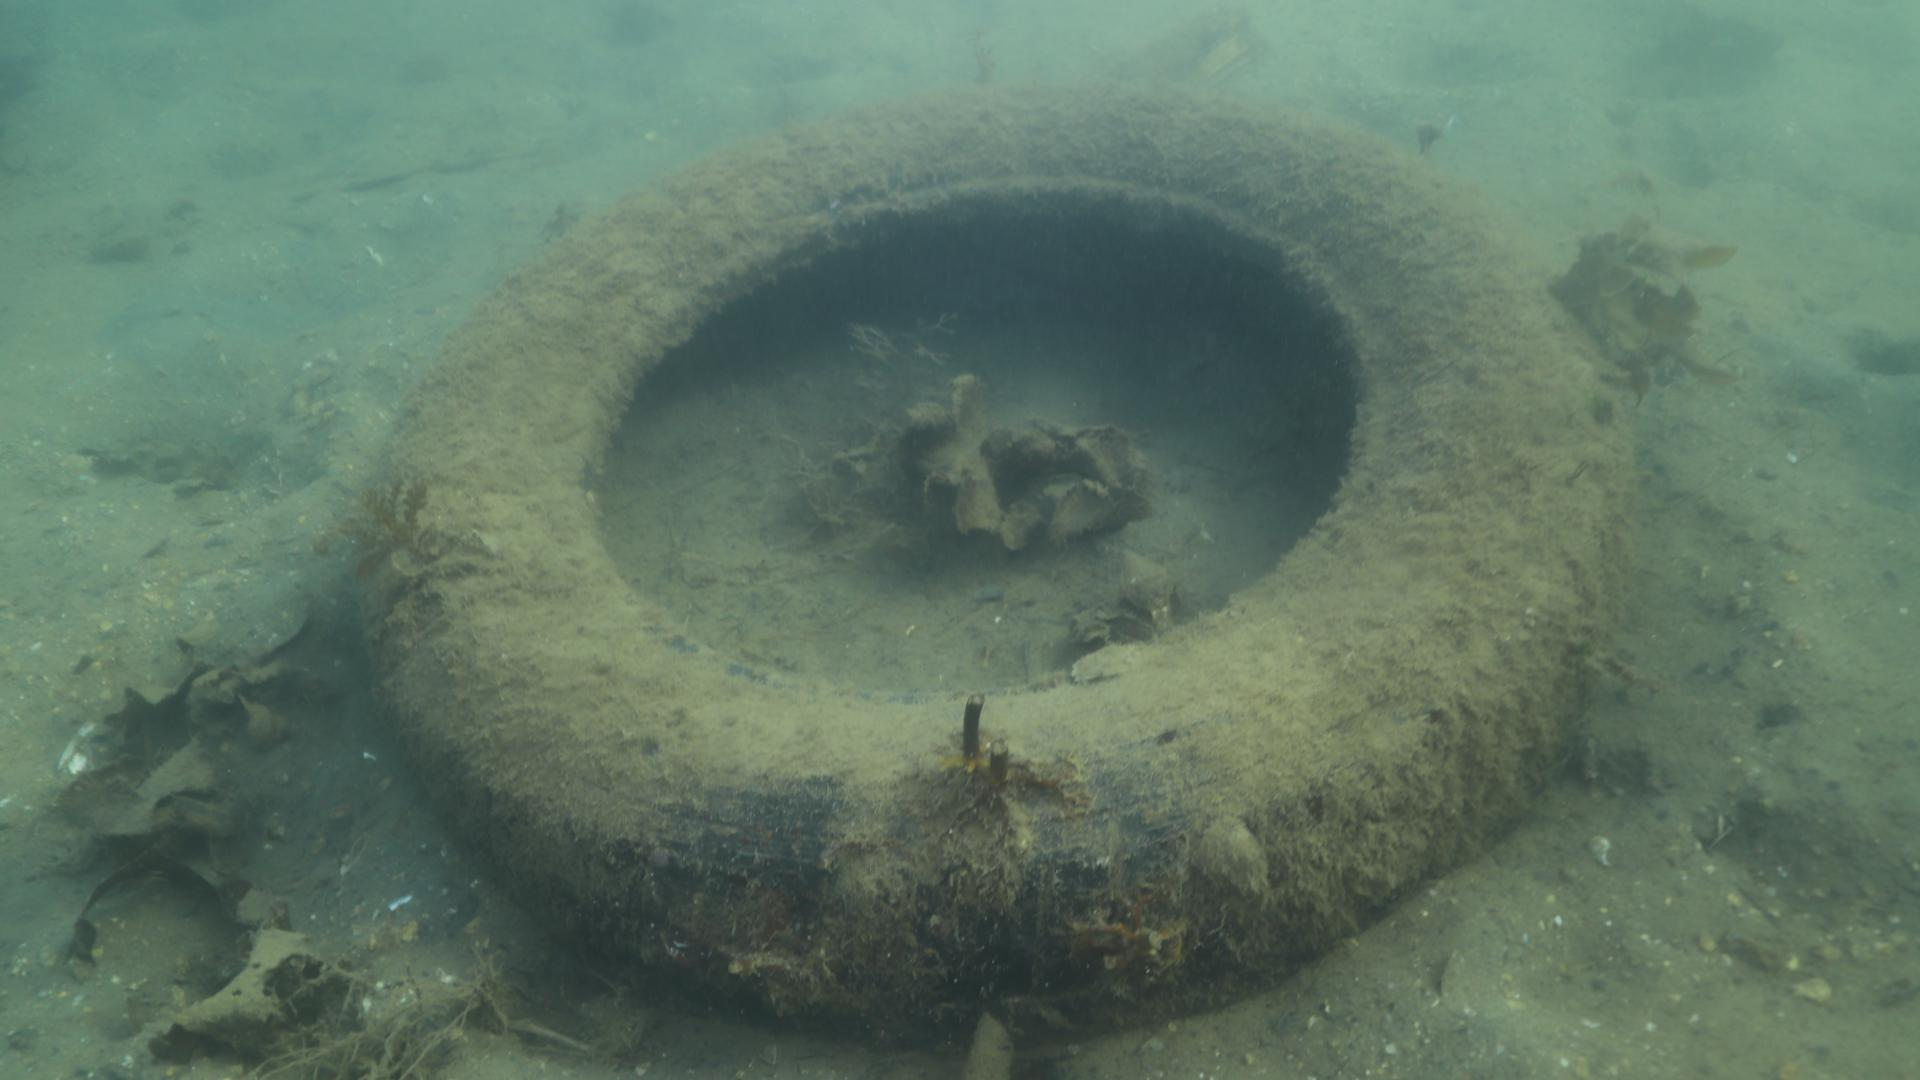tire: (351, 79, 1633, 1048)
